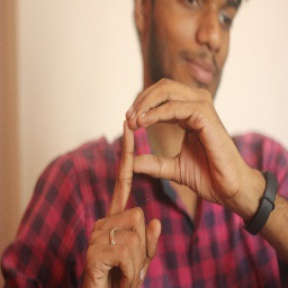P: (84, 77, 229, 278)
